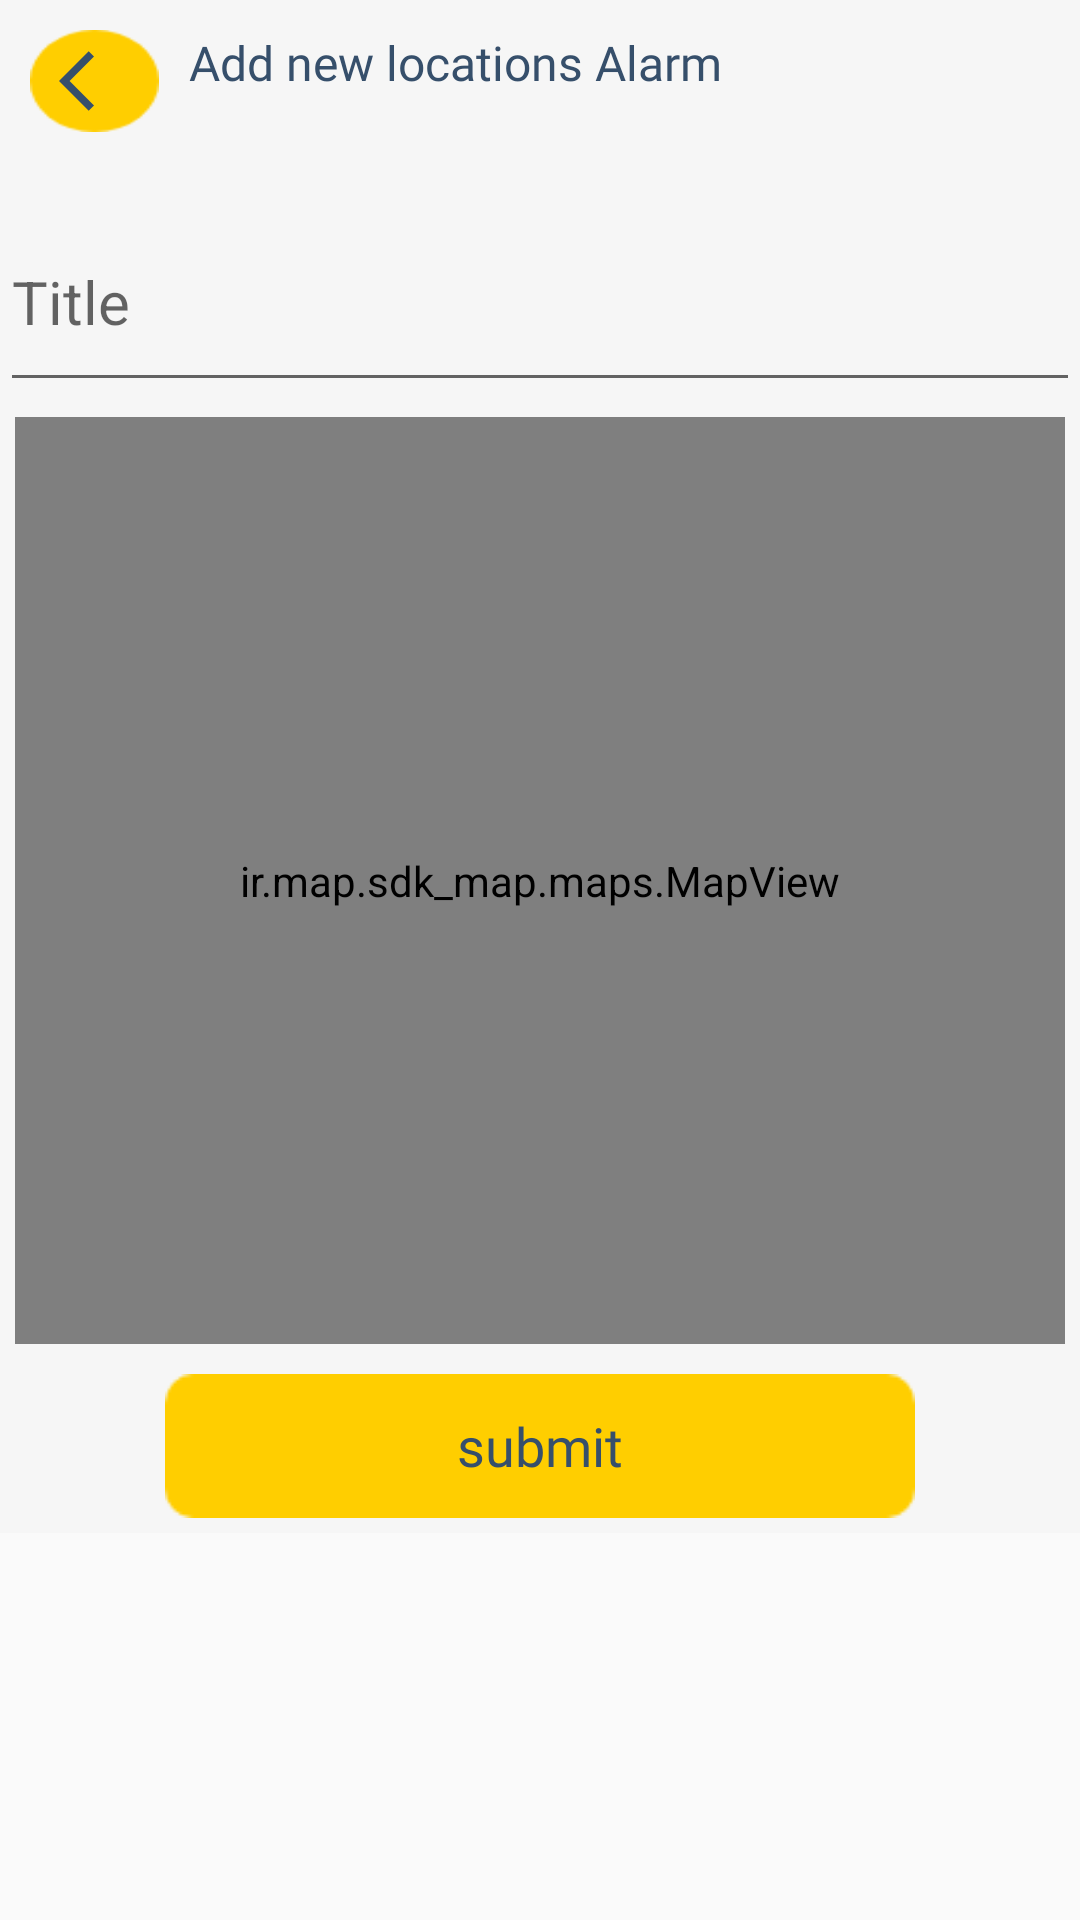

Icon click points for this 1080w x 1920h phone screenshot, format [x,y]:
arrow back: [94,81]
